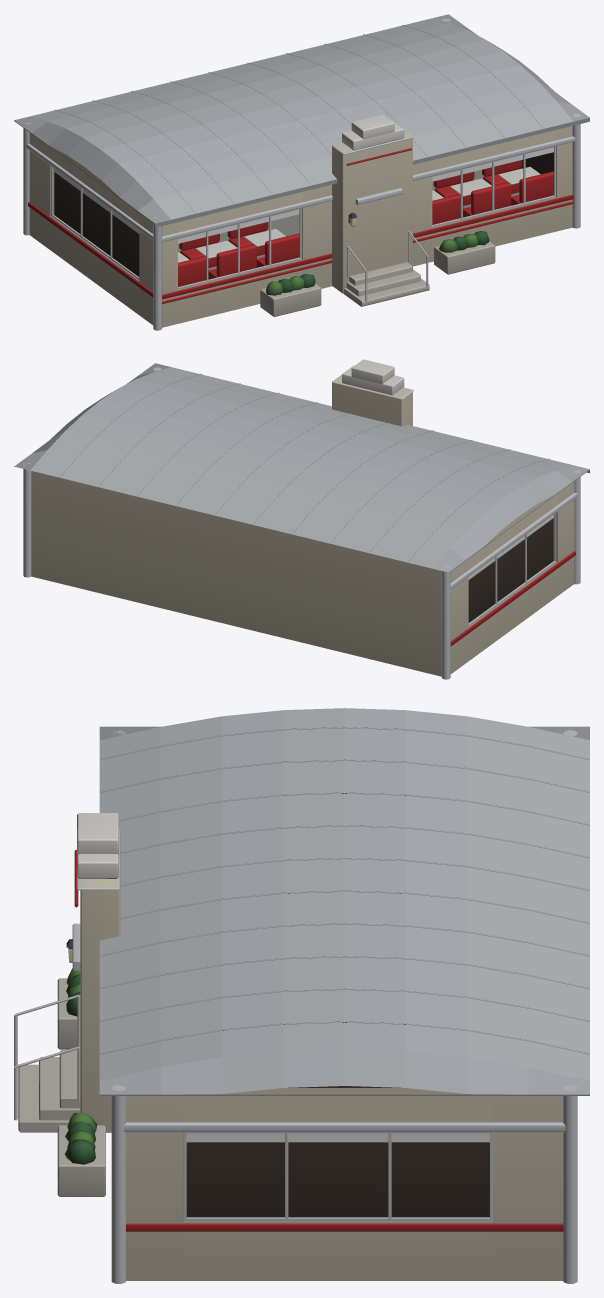
Rendered from DinerFL.fbx.
3 renders of one model, top to bottom at view 1: azimuth 30°, elevation 25°; view 2: azimuth 150°, elevation 25°; view 3: azimuth 270°, elevation 25°, orthographic. The views are drawn at different scales.
Parts seen in each view (by area): view 1: DinerFL; view 2: DinerFL; view 3: DinerFL.
Part boxes in pixels (x1,y1,x2,y2): DinerFL: [14, 14, 589, 330]; DinerFL: [14, 359, 589, 679]; DinerFL: [14, 708, 589, 1283].
Bounding box in the file's own units: 13.5 × 4.75 × 8.93.
